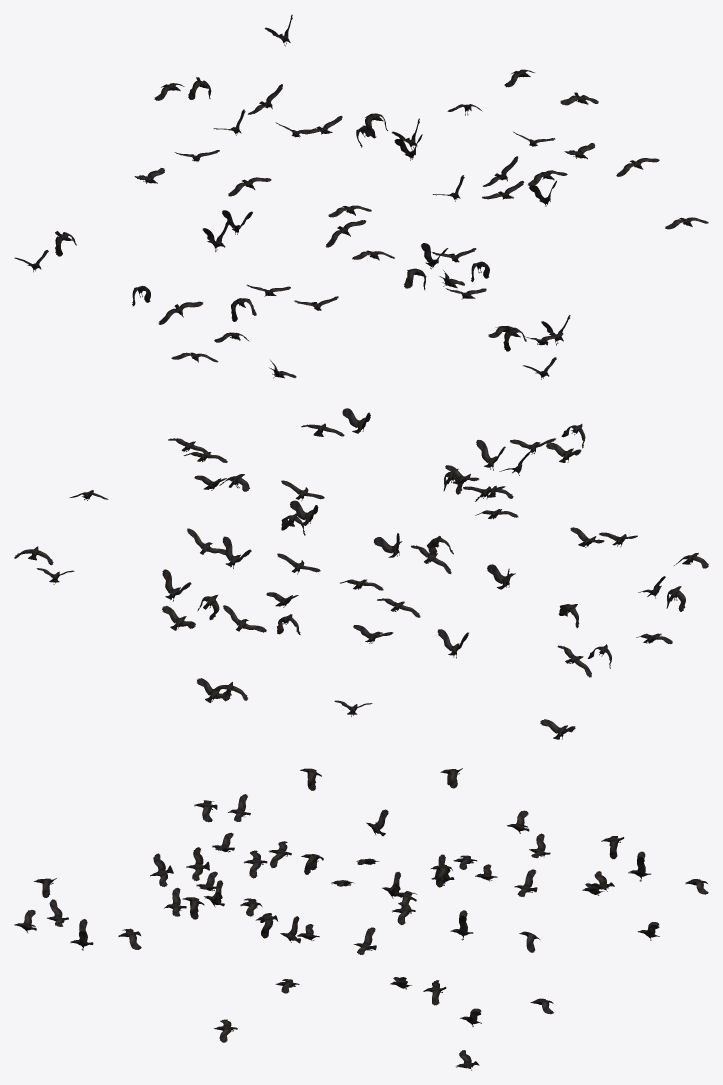
Rendered from crows_5.glb.
3 renders of one model, top to bottom at view 1: azimuth 30°, elevation 25°; view 2: azimuth 150°, elevation 25°; view 3: azimuth 270°, elevation 25°, orthographic. The views are drawn at different scales.
Parts seen in each view (by area): view 1: Crows05.Shape; view 2: Crows05.Shape; view 3: Crows05.Shape.
Part boxes in pixels (x1=…): Crows05.Shape: x1=14, y1=14, x2=708, y2=379; Crows05.Shape: x1=14, y1=408, x2=708, y2=739; Crows05.Shape: x1=14, y1=768, x2=708, y2=1070.
Size of the model in its own units: 14.54 by 3.57 by 16.55.
1 material, 1 textured.
